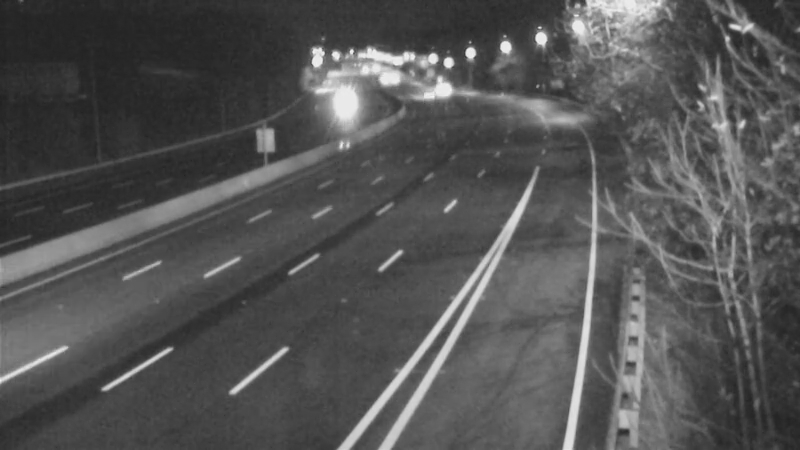vehicle: (418, 63, 468, 113), (399, 68, 449, 118), (321, 75, 371, 125)
